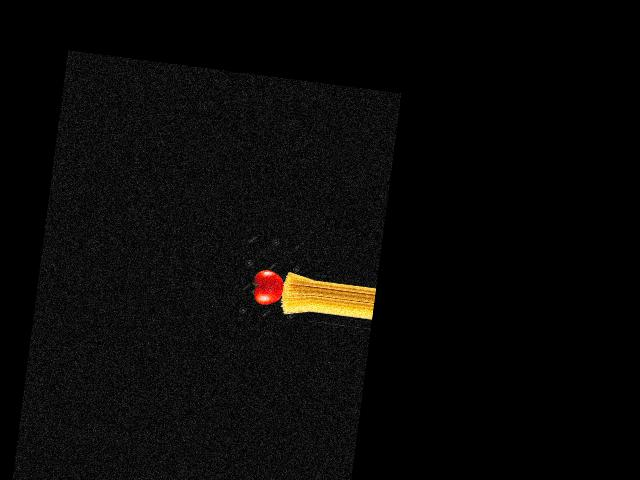tomato: (251, 269, 285, 307)
